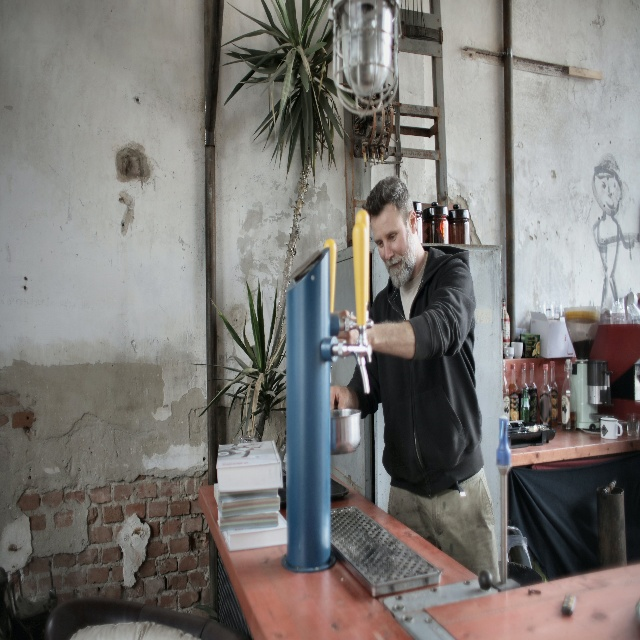Sin_guantes: (337, 310, 359, 346), (330, 385, 356, 410)
